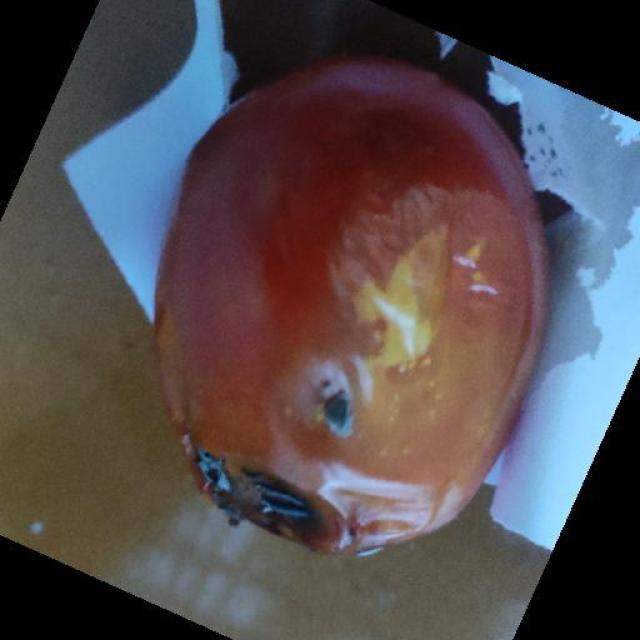Stale_tomato: (116, 39, 553, 568)
